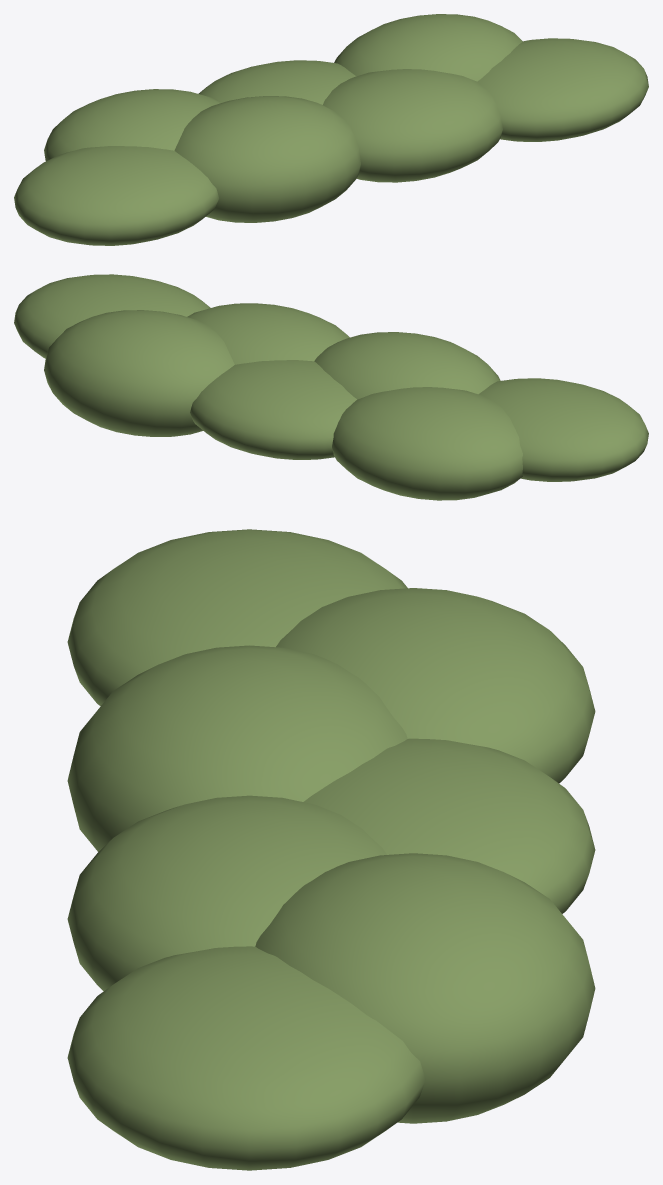
The model's file is andes_runtime.glb.
3 renders of one model, top to bottom at view 1: azimuth 30°, elevation 25°; view 2: azimuth 150°, elevation 25°; view 3: azimuth 270°, elevation 25°, orthographic. The views are drawn at different scales.
Visible parts, largest first — view 1: Soft distant hills.002, Soft distant hills, Soft distant hills.004, Soft distant hills.006, Soft distant hills.005, Soft distant hills.001, Soft distant hills.003; view 2: Soft distant hills.005, Soft distant hills.001, Soft distant hills.003, Soft distant hills, Soft distant hills.002, Soft distant hills.006, Soft distant hills.004; view 3: Soft distant hills.006, Soft distant hills.005, Soft distant hills.002, Soft distant hills.001, Soft distant hills.004, Soft distant hills, Soft distant hills.003.
Boxes of the visible parts, x1,y1,x2,y2 form: Soft distant hills.002: [174, 96, 360, 222]; Soft distant hills: [14, 146, 218, 245]; Soft distant hills.004: [323, 69, 502, 182]; Soft distant hills.006: [477, 38, 648, 141]; Soft distant hills.005: [334, 14, 522, 81]; Soft distant hills.001: [44, 89, 221, 161]; Soft distant hills.003: [198, 60, 356, 104]; Soft distant hills.005: [44, 310, 234, 436]; Soft distant hills.001: [332, 387, 522, 500]; Soft distant hills.003: [190, 360, 356, 459]; Soft distant hills: [478, 378, 648, 481]; Soft distant hills.002: [314, 332, 500, 399]; Soft distant hills.006: [14, 274, 210, 358]; Soft distant hills.004: [187, 303, 349, 364]; Soft distant hills.006: [67, 946, 425, 1170]; Soft distant hills.005: [255, 853, 595, 1123]; Soft distant hills.002: [67, 645, 407, 851]; Soft distant hills.001: [276, 588, 595, 783]; Soft distant hills.004: [67, 795, 386, 991]; Soft distant hills: [67, 529, 407, 706]; Soft distant hills.003: [303, 738, 595, 913].
Bounding box in the file's own units: 156 × 24 × 58.
